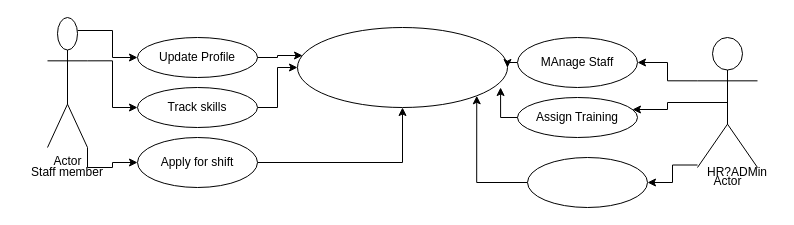
This 794x225 diagram has some shape labels left out. The centre of each missing label's shape, as x and y in pixels:
Generate Reports: (587,182)
Skills Portal: (402,67)
